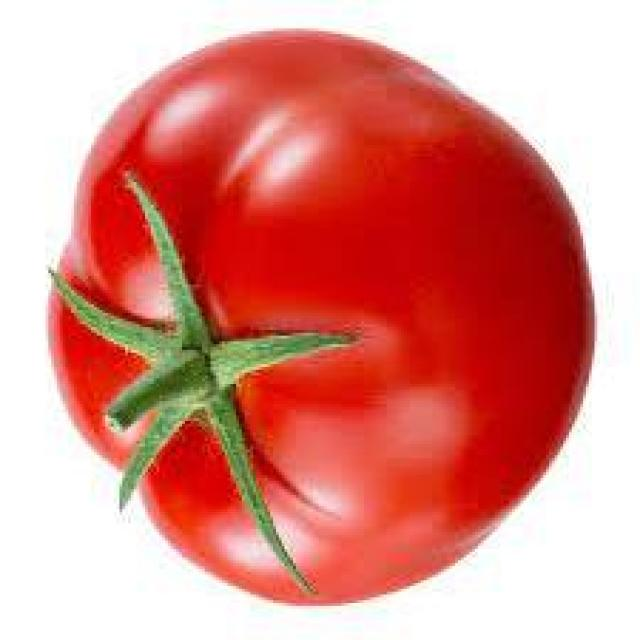Tomato: (44, 25, 606, 605)
